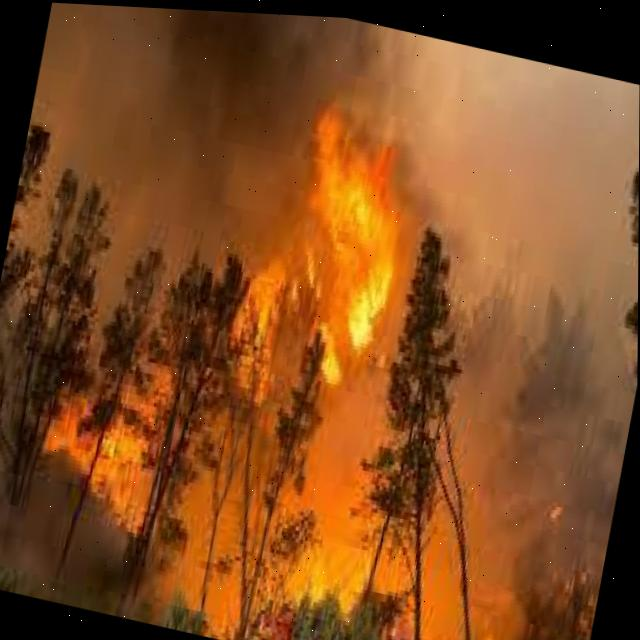fire: (262, 127, 410, 420), (93, 405, 164, 523), (301, 511, 374, 608)
smoke: (13, 2, 328, 267), (416, 281, 637, 611), (392, 32, 640, 303), (312, 14, 430, 148)
